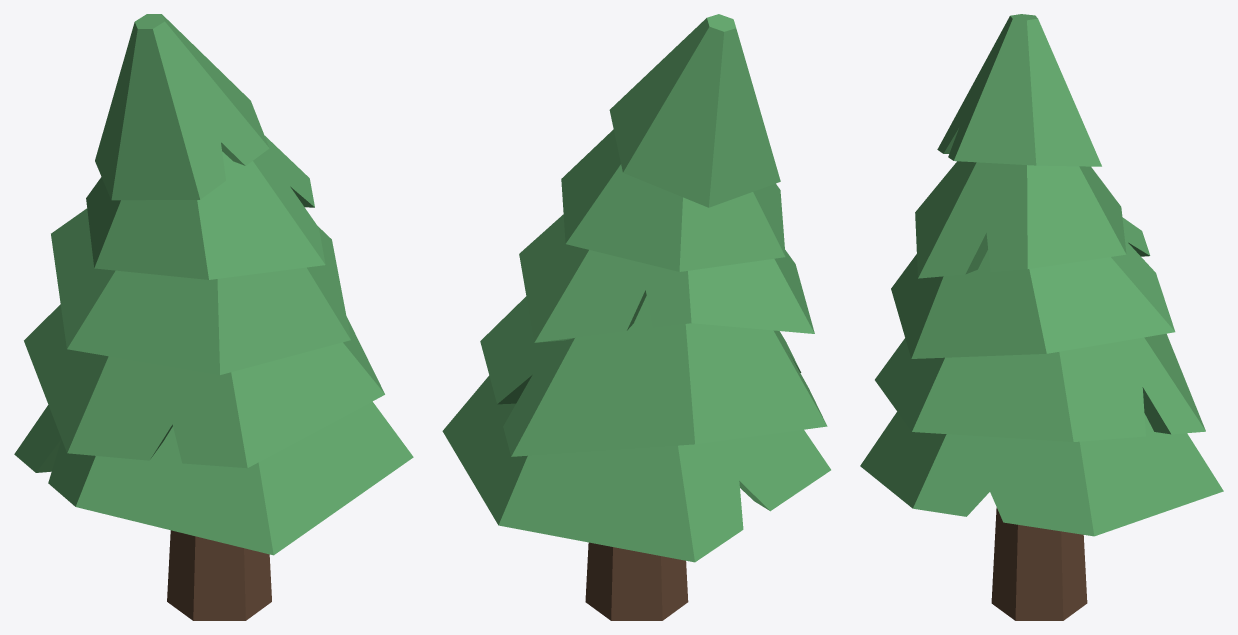
The model's file is tree1.glb.
The picture shows the model from 3 angles, left to right: view 1: azimuth 30°, elevation 25°; view 2: azimuth 150°, elevation 25°; view 3: azimuth 270°, elevation 25°; orthographic projection. The views are drawn at different scales.
Parts seen in each view (by area): view 1: Spruce 4; view 2: Spruce 4; view 3: Spruce 4.
Part boxes in pixels (bbox=[...]): Spruce 4: bbox=[14, 14, 413, 620]; Spruce 4: bbox=[442, 14, 830, 620]; Spruce 4: bbox=[860, 14, 1223, 620].
Size of the model in its own units: 2.01 by 3.42 by 2.03.
